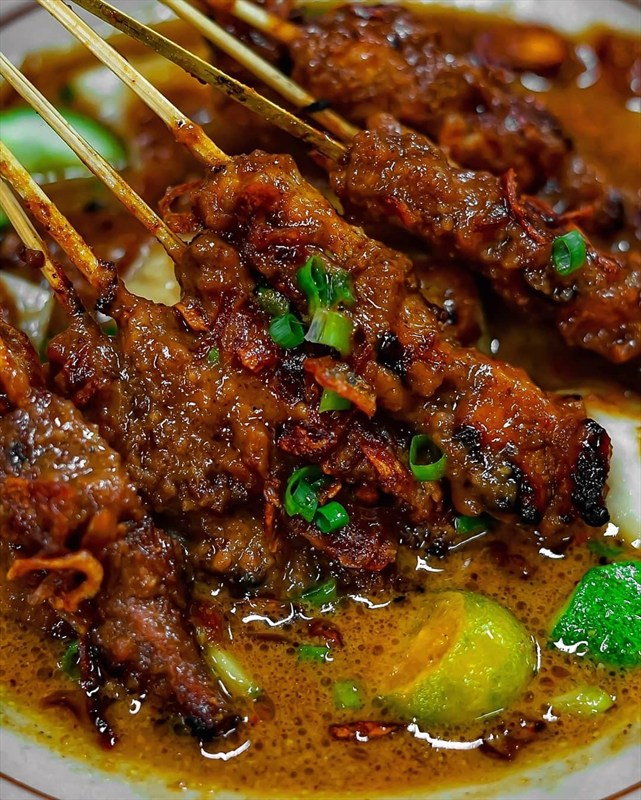Sate Ayam: (13, 16, 591, 715)
